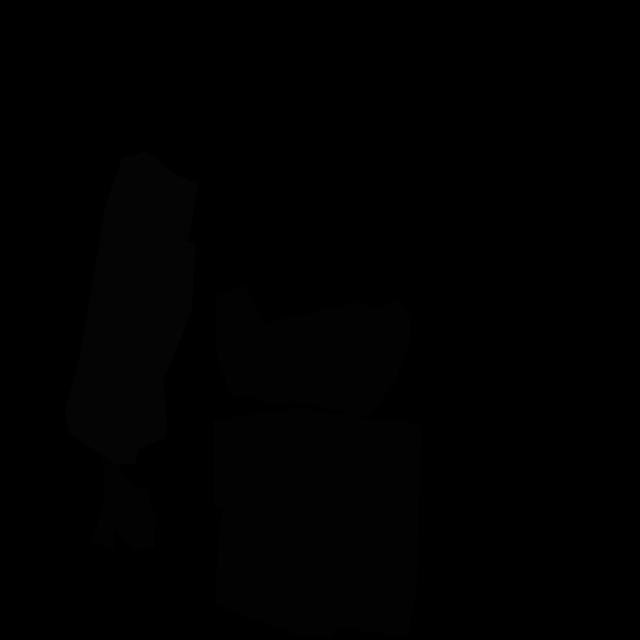cardboard: (213, 407, 422, 638), (216, 284, 411, 417), (91, 455, 156, 553)
soft_plastic: (64, 151, 199, 465)
